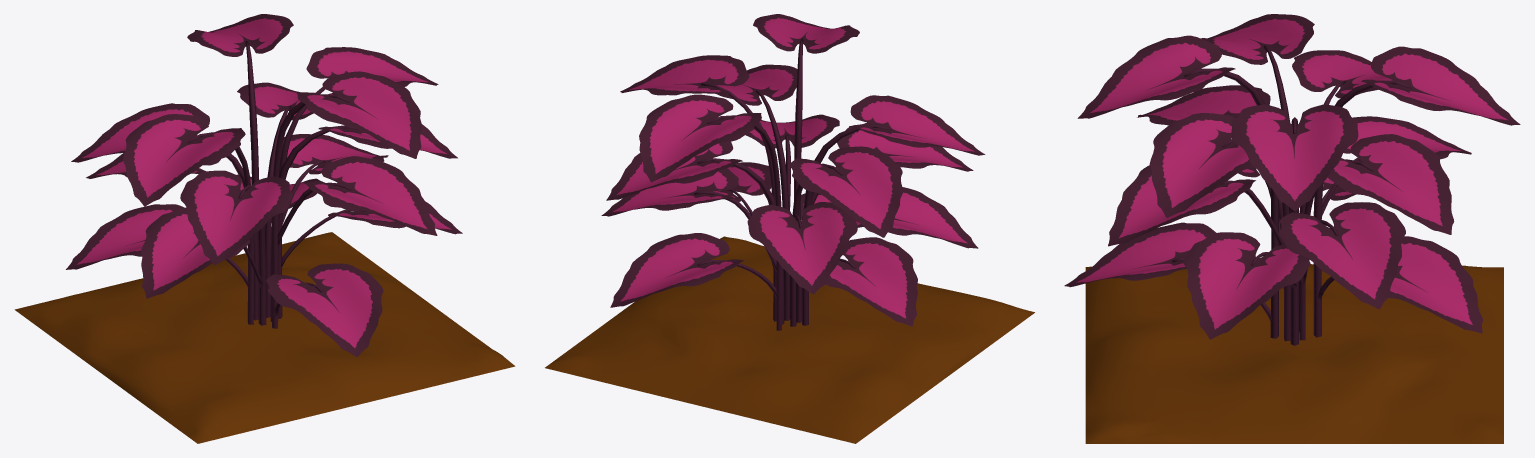
File: begonia-rex-p4-leaf.glb
The picture shows the model from 3 angles, left to right: view 1: azimuth 30°, elevation 25°; view 2: azimuth 150°, elevation 25°; view 3: azimuth 270°, elevation 25°; orthographic projection. The views are drawn at different scales.
Visible parts, largest first — view 1: 4_nft_out_of_bloom; view 2: 4_nft_out_of_bloom; view 3: 4_nft_out_of_bloom.
Boxes of the visible parts, <box> form: 4_nft_out_of_bloom: <box>14,14,515,443</box>; 4_nft_out_of_bloom: <box>545,14,1034,443</box>; 4_nft_out_of_bloom: <box>1064,14,1520,443</box>.
Size of the model in its own units: 0.7395 by 0.5781 by 0.7638.
3 materials, 1 textured.
